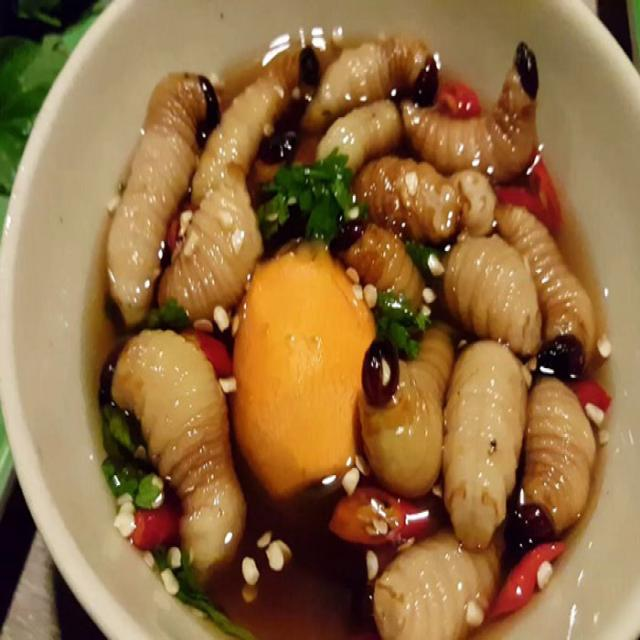dun dua: (37, 3, 624, 640)
